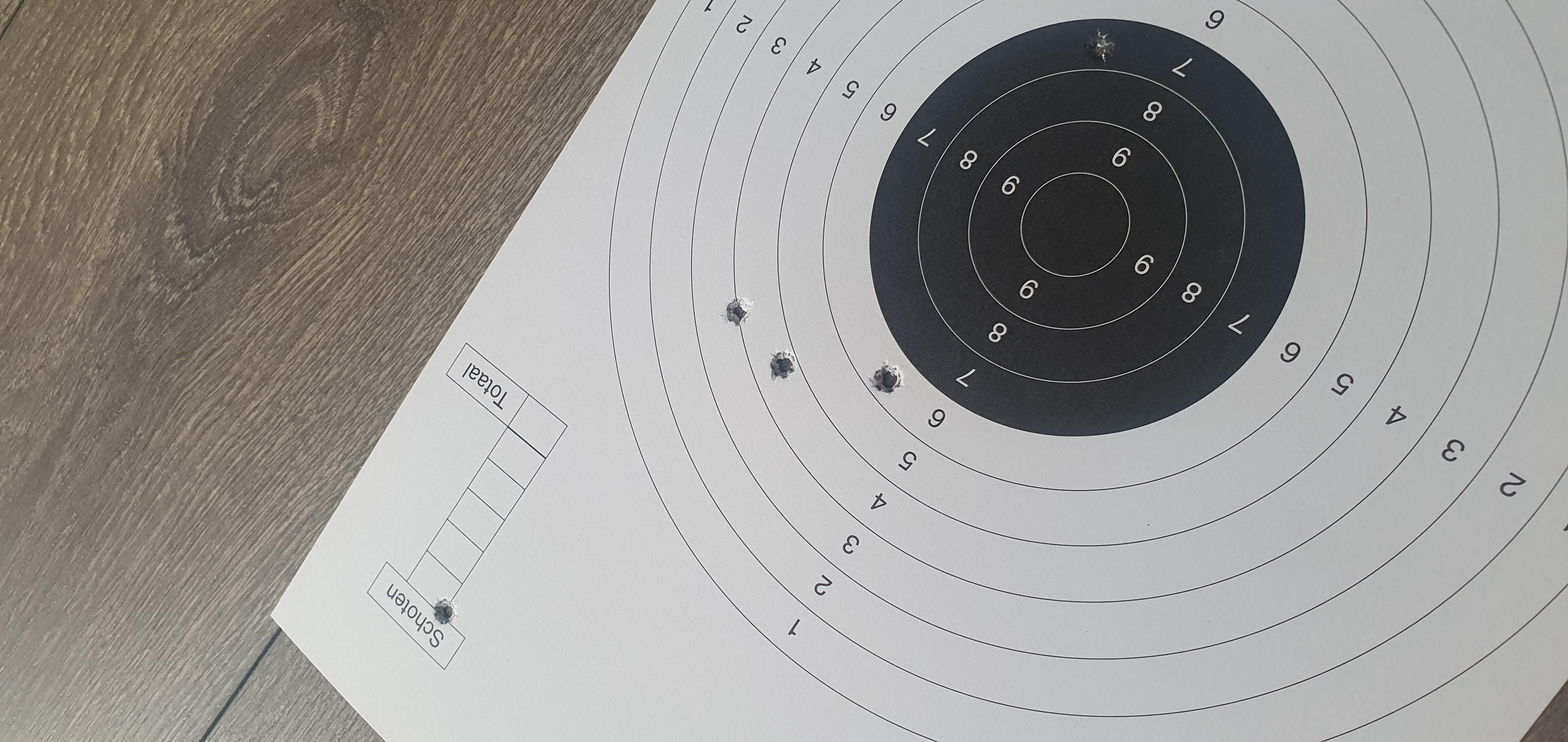hole: (869, 338, 949, 357), (1426, 511, 1506, 528), (758, 361, 835, 378), (732, 409, 801, 427), (240, 202, 310, 217)
